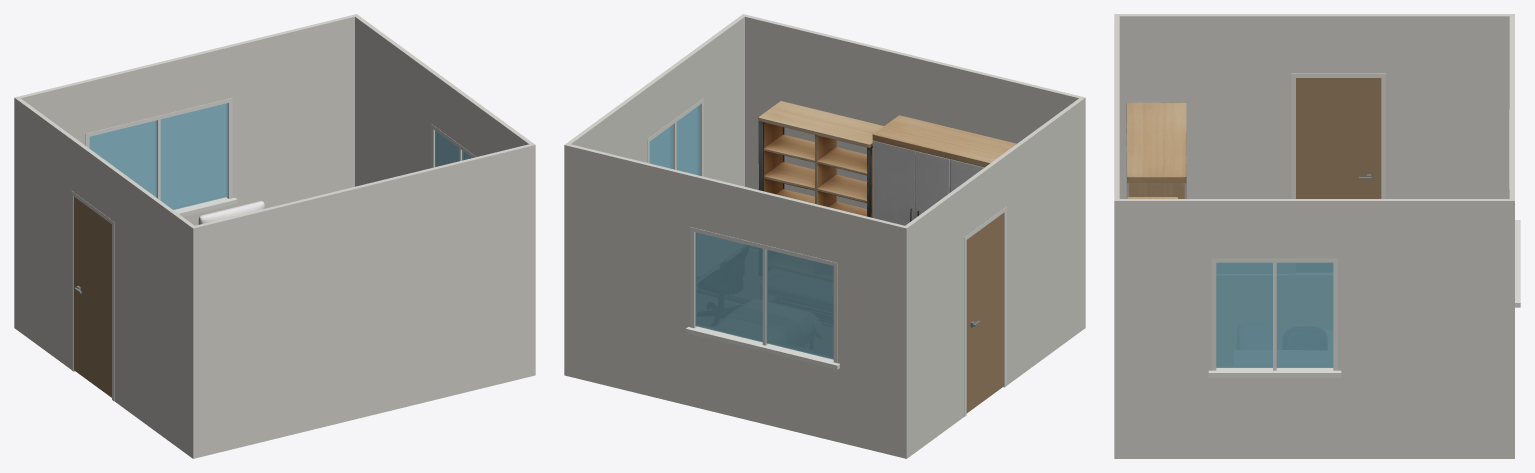
The model's file is scenesmith.glb.
The picture shows the model from 3 angles, left to right: view 1: azimuth 30°, elevation 25°; view 2: azimuth 150°, elevation 25°; view 3: azimuth 270°, elevation 25°; orthographic projection. The views are drawn at different scales.
Visible parts, largest first — view 1: scene_024_bedroom_south_wall, scene_024_bedroom_west_wall, scene_024_bedroom_north_wall, scene_024_bedroom_east_wall, scene_024_bedroom_north_wall Window 0 | glazing, scene_024_bedroom_west_wall Door 0 | wood leaf, scene_024_bedroom_north_wall Window 0 | jamb, scene_024_bedroom_west_wall Door 0 | jamb, scene_024_bedroom_east_wall Window 0 | glazing, furniture_group; view 2: scene_024_bedroom_north_wall, scene_024_bedroom_west_wall, scene_024_bedroom_south_wall, furniture_group, scene_024_bedroom_north_wall Window 0 | glazing, scene_024_bedroom_east_wall, scene_024_bedroom_west_wall Door 0 | wood leaf, scene_024_bedroom_north_wall Window 0 | jamb, scene_024_bedroom_east_wall Window 0 | glazing, scene_024_bedroom_west_wall Door 0 | jamb, scene_024_bedroom_east_wall Window 0 | jamb; view 3: scene_024_bedroom_east_wall, scene_024_bedroom_west_wall, scene_024_bedroom_east_wall Window 0 | glazing, scene_024_bedroom_west_wall Door 0 | wood leaf, furniture_group, scene_024_bedroom_east_wall Window 0 | jamb, scene_024_bedroom_north_wall, scene_024_bedroom_south_wall, scene_024_bedroom_west_wall Door 0 | jamb, scene_024_bedroom_north_wall Window 0 | jamb.
Boxes of the visible parts, x1,y1,x2,y2 form: scene_024_bedroom_south_wall: (191, 144, 535, 458); scene_024_bedroom_west_wall: (14, 96, 197, 458); scene_024_bedroom_north_wall: (14, 15, 354, 329); scene_024_bedroom_east_wall: (353, 14, 535, 376); scene_024_bedroom_north_wall Window 0 | glazing: (89, 103, 228, 209); scene_024_bedroom_west_wall Door 0 | wood leaf: (74, 197, 111, 397); scene_024_bedroom_north_wall Window 0 | jamb: (85, 98, 237, 216); scene_024_bedroom_west_wall Door 0 | jamb: (71, 191, 114, 400); scene_024_bedroom_east_wall Window 0 | glazing: (435, 130, 471, 166); furniture_group: (198, 201, 265, 224); scene_024_bedroom_north_wall: (564, 144, 908, 458); scene_024_bedroom_west_wall: (903, 96, 1085, 456); scene_024_bedroom_south_wall: (745, 15, 1085, 329); furniture_group: (758, 101, 1016, 225); scene_024_bedroom_north_wall Window 0 | glazing: (695, 232, 833, 359); scene_024_bedroom_east_wall: (564, 14, 746, 186); scene_024_bedroom_west_wall Door 0 | wood leaf: (966, 213, 1004, 413); scene_024_bedroom_north_wall Window 0 | jamb: (685, 227, 839, 369); scene_024_bedroom_east_wall Window 0 | glazing: (649, 105, 700, 175); scene_024_bedroom_west_wall Door 0 | jamb: (964, 206, 1006, 416); scene_024_bedroom_east_wall Window 0 | jamb: (647, 98, 703, 176); scene_024_bedroom_east_wall: (1114, 199, 1514, 458); scene_024_bedroom_west_wall: (1114, 14, 1514, 198); scene_024_bedroom_east_wall Window 0 | glazing: (1216, 262, 1333, 367); scene_024_bedroom_west_wall Door 0 | wood leaf: (1296, 78, 1381, 198); furniture_group: (1126, 102, 1186, 198); scene_024_bedroom_east_wall Window 0 | jamb: (1208, 258, 1341, 377); scene_024_bedroom_north_wall: (1509, 16, 1514, 458); scene_024_bedroom_south_wall: (1114, 16, 1119, 458); scene_024_bedroom_west_wall Door 0 | jamb: (1291, 73, 1385, 198); scene_024_bedroom_north_wall Window 0 | jamb: (1509, 109, 1520, 307).
Size of the model in its own units: 4.3 by 2.71 by 3.85.
Materials: 16 (6 with a texture image).
